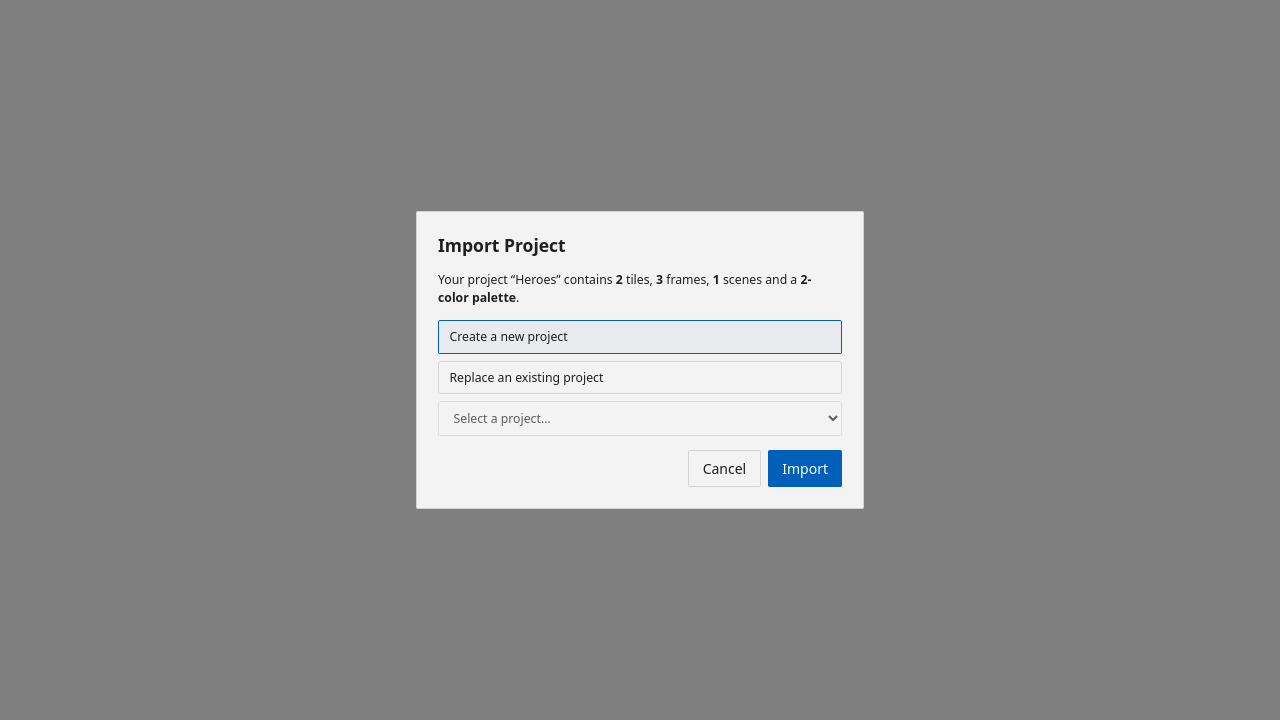
Test: ImportProjectDialogComponent › disables import when replacing without a selected project
What coordinates should you click on to do the following:
click the radio button labelled "Replace an existing project"
I would click on:
 (526, 377)
Its box is [438,361,842,394].
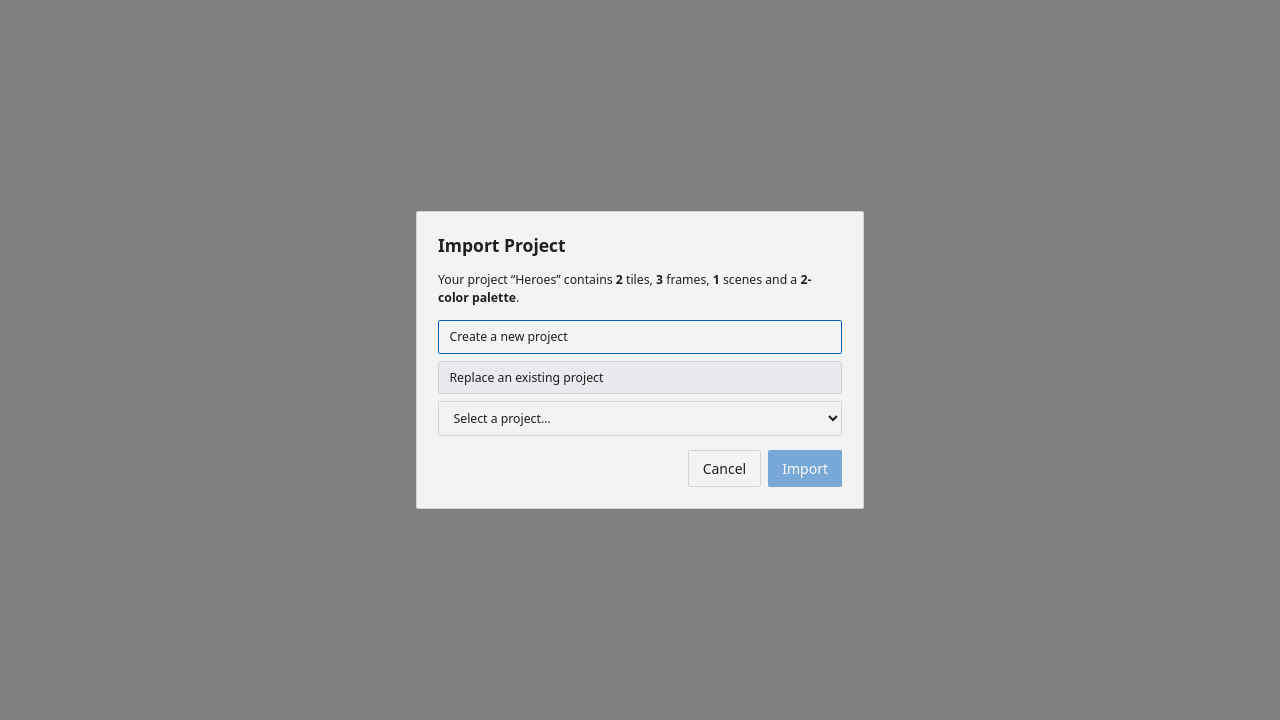
Expected: the button "Import" is disabled, [768,450,842,487]
